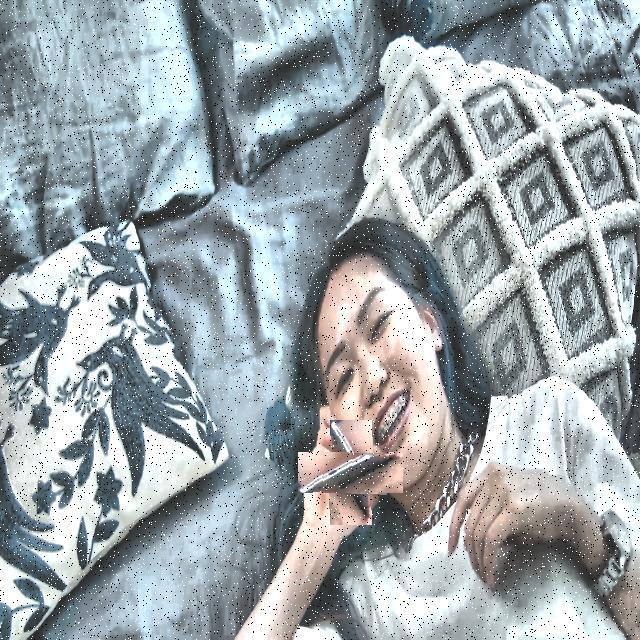Phone: (314, 436, 388, 510)
